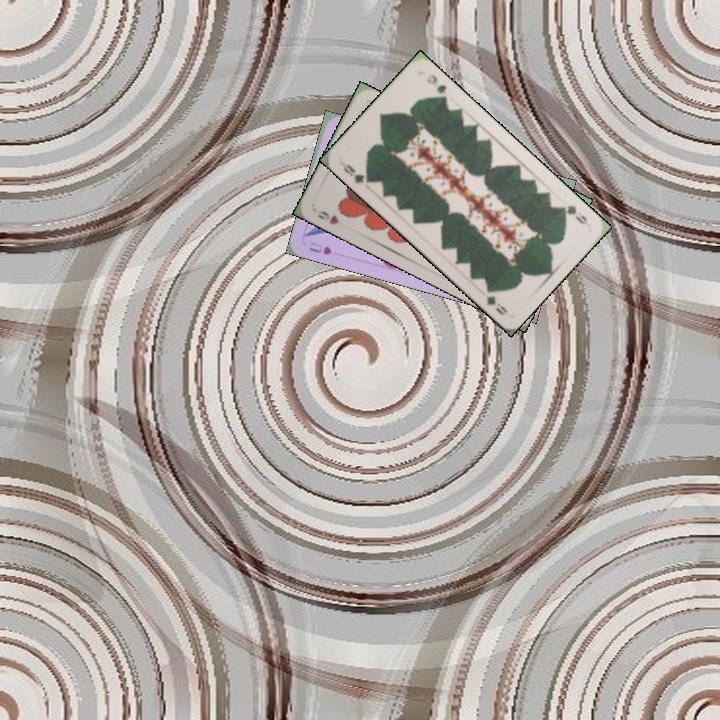G9: (337, 158, 374, 186), (556, 201, 590, 227)
H9: (313, 206, 342, 228)
HU: (305, 238, 335, 257)
